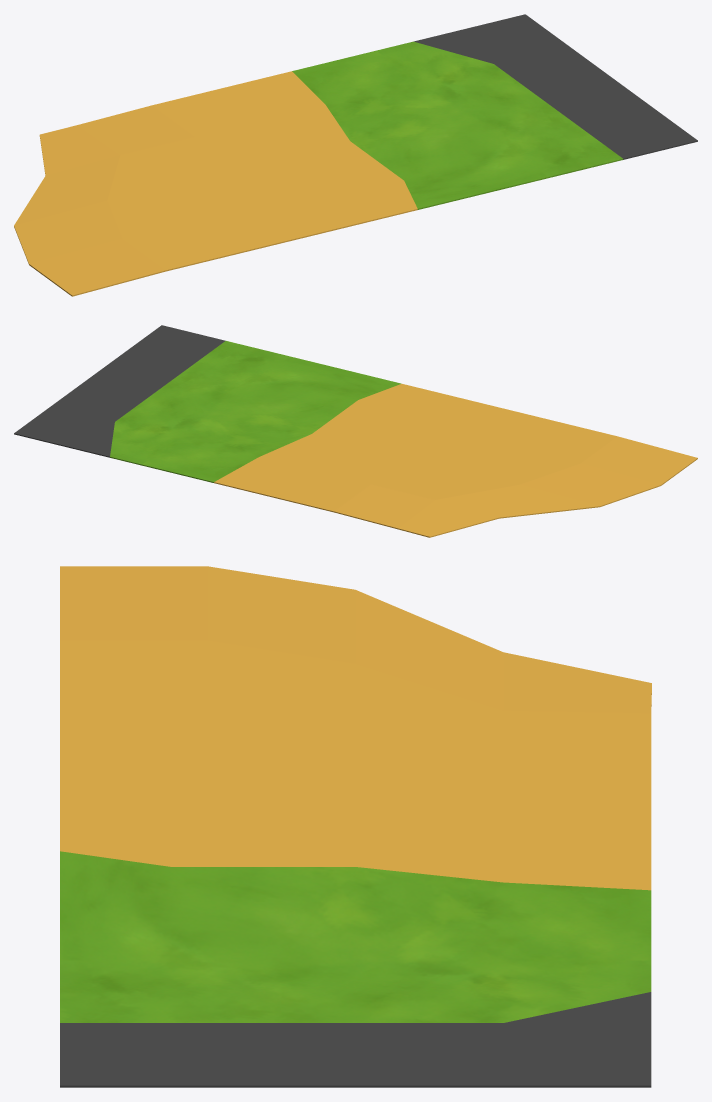
The picture shows the model from 3 angles, top to bottom: view 1: azimuth 30°, elevation 25°; view 2: azimuth 150°, elevation 25°; view 3: azimuth 270°, elevation 25°; orthographic projection. The views are drawn at different scales.
Visible parts, largest first — view 1: 01_street_base_plate-COL.032; view 2: 01_street_base_plate-COL.032; view 3: 01_street_base_plate-COL.032.
Boxes of the visible parts, box(x1,y1,x2,y2) form: 01_street_base_plate-COL.032: box(14, 14, 697, 296); 01_street_base_plate-COL.032: box(14, 325, 697, 537); 01_street_base_plate-COL.032: box(60, 566, 651, 1087).
Size of the model in its own units: 536 by 2.92 by 256.
Materials: 3 (1 with a texture image).
